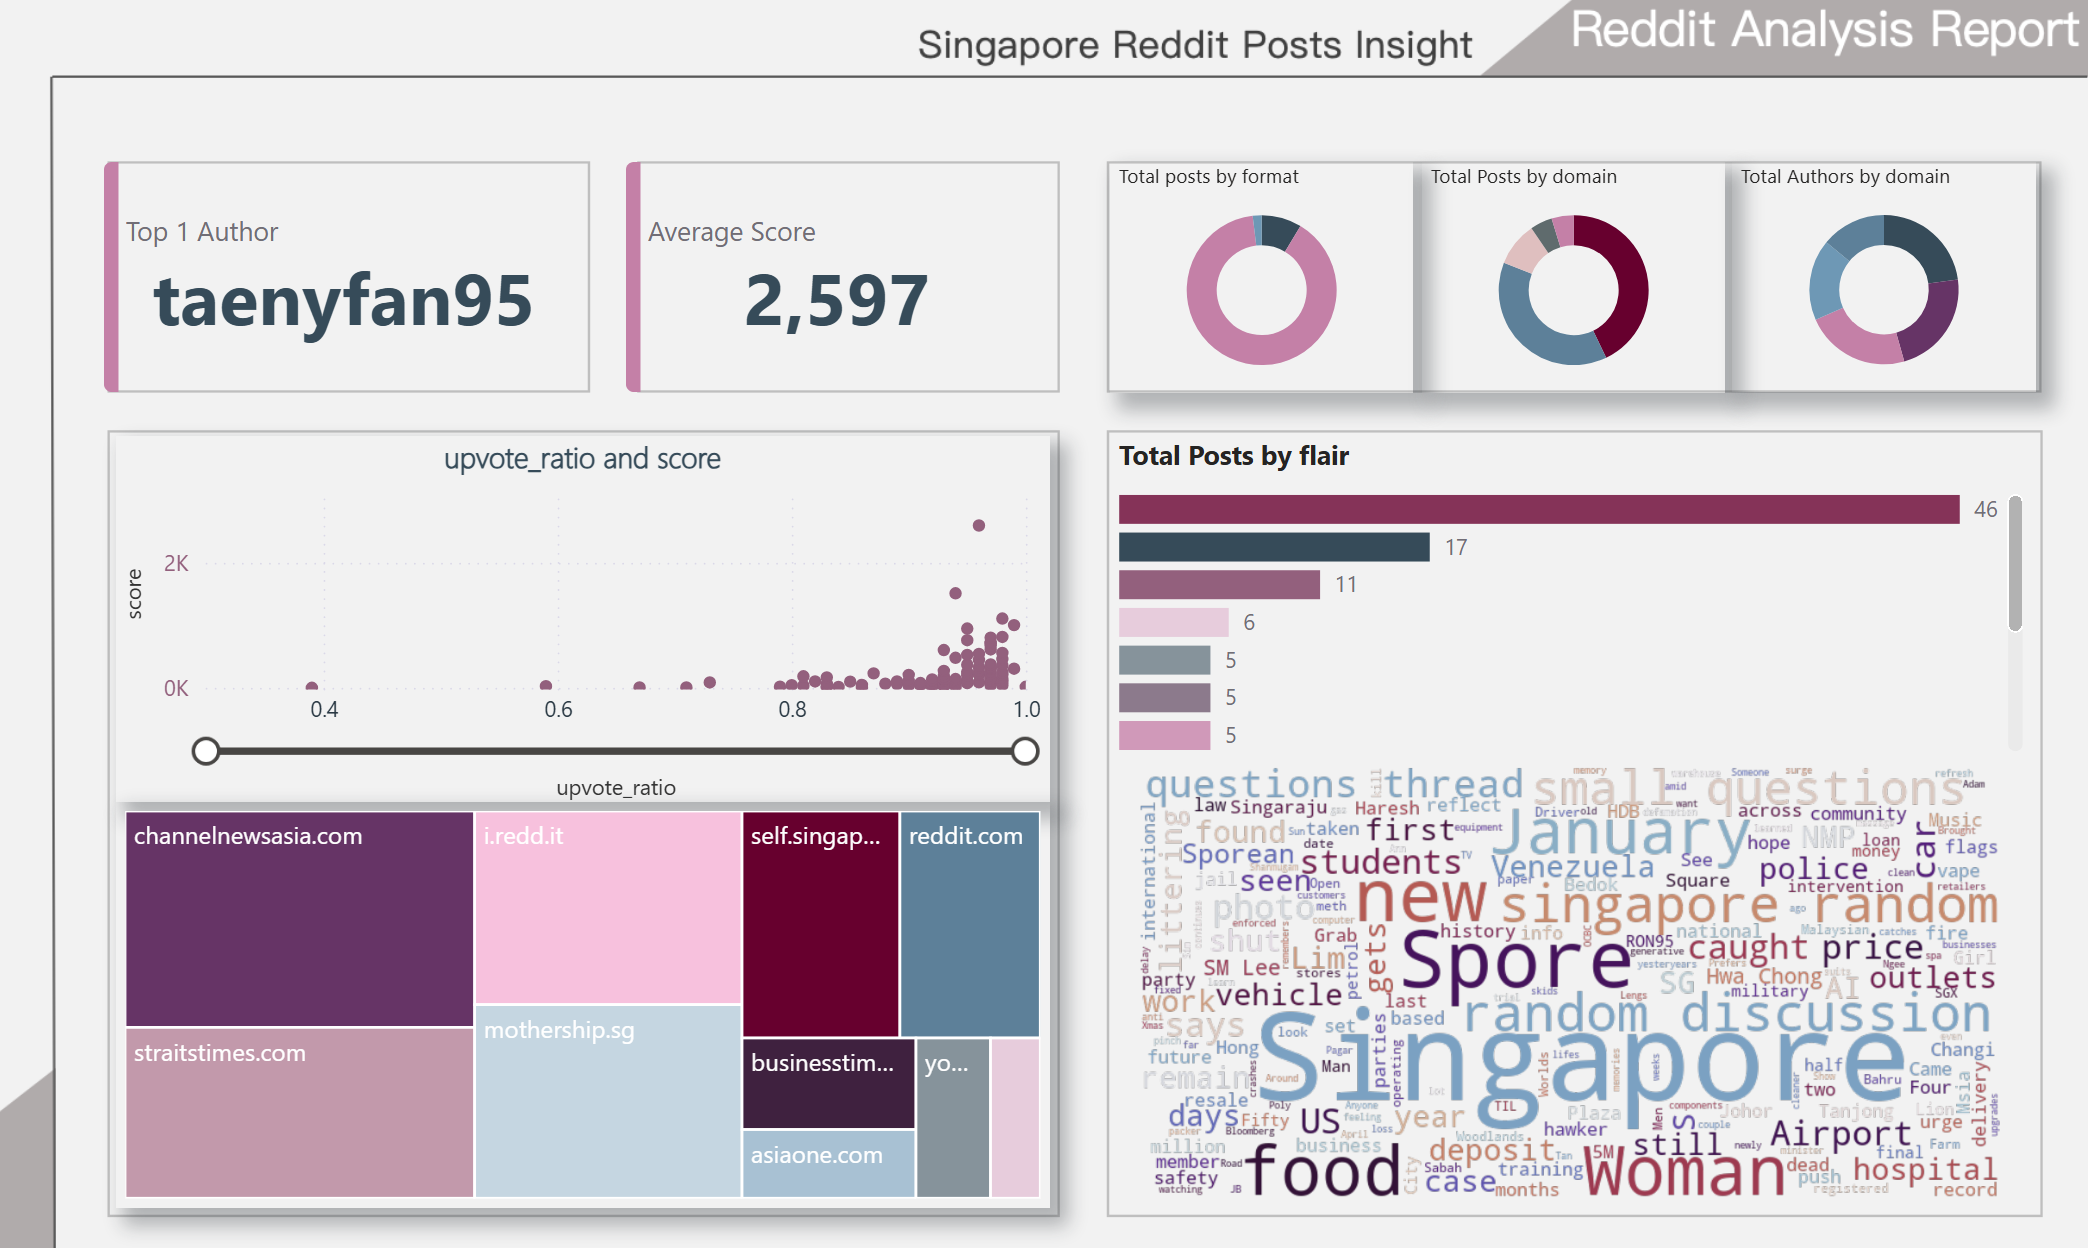

What the dashboard file says about the page in this screenshot:
{"tool":"powerbi","page":{"name":"Page 1","canvas":[1280,720],"ordinal":0},"visuals":[{"type":"scatterChart","fields":{"X":["reddit_db fact_posts_gl.upvote_ratio"],"Y":["reddit_db fact_posts_gl.score"]},"box":[189.3,246.8,515.3,202],"z":0},{"type":"treemap","fields":{"Group":["reddit_db dim_domains_gl.domain"],"Values":["Measure Table.Total Posts"]},"box":[189.3,448.8,515.3,223.8],"z":1000},{"type":"clusteredBarChart","fields":{"Category":["reddit_db dim_flairs_gl.flair"],"Y":["Measure Table.Total Posts"]},"box":[737.8,246.8,508.9,179],"z":2000},{"type":"cardVisual","fields":{"Data":["reddit_db dim_authors_gl.author"]},"box":[182.5,95,265,127.5],"z":3000},{"type":"cardVisual","fields":{"Data":["Measure Table.AVG Score"]},"box":[470,95,233.8,127.5],"z":4000},{"type":"donutChart","title":"Total posts by format","fields":{"Y":["Measure Table.Total Texts","Measure Table.Total Others","Measure Table.Total Videos"]},"box":[737.5,95,167.5,127.5],"z":5000},{"type":"donutChart","fields":{"Category":["reddit_db dim_domains_gl.domain"],"Y":["Measure Table.Total Posts"]},"box":[910,95,167.5,127.5],"z":6000},{"type":"donutChart","fields":{"Y":["Measure Table.Total Authors"],"Category":["reddit_db dim_domains_gl.domain"]},"box":[1081.1,95,167.9,127],"z":7000},{"type":"pythonVisual","fields":{"Values":["reddit_db fact_posts_gl.title"]},"box":[721.2,424.5,542.2,248.1],"z":7001}]}

Visuals, with their boxes on the page's 1280x720 design canvas (x1, y1, x2, y2). These are canvas units, not pixel positions in the 2088x1248 screenshot, which may show the page scaled, cropped or inside an application window:
scatterChart - reddit_db fact_posts_gl.upvote_ratio x reddit_db fact_posts_gl.score: box(189, 247, 705, 449)
treemap - reddit_db dim_domains_gl.domain x Measure Table.Total Posts: box(189, 449, 705, 673)
clusteredBarChart - reddit_db dim_flairs_gl.flair x Measure Table.Total Posts: box(738, 247, 1247, 426)
cardVisual - reddit_db dim_authors_gl.author: box(182, 95, 448, 222)
cardVisual - Measure Table.AVG Score: box(470, 95, 704, 222)
"Total posts by format" donutChart: box(738, 95, 905, 222)
donutChart - reddit_db dim_domains_gl.domain x Measure Table.Total Posts: box(910, 95, 1078, 222)
donutChart - Measure Table.Total Authors x reddit_db dim_domains_gl.domain: box(1081, 95, 1249, 222)
pythonVisual - reddit_db fact_posts_gl.title: box(721, 424, 1263, 673)
